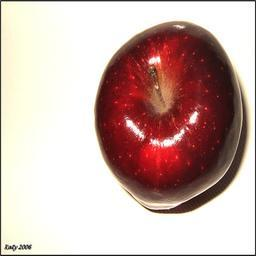apple: (95, 21, 244, 210)
